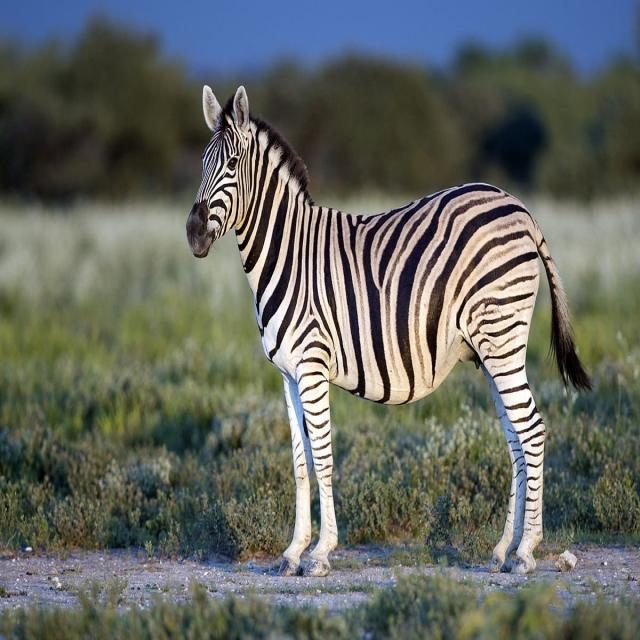Zebra: (184, 74, 578, 587)
